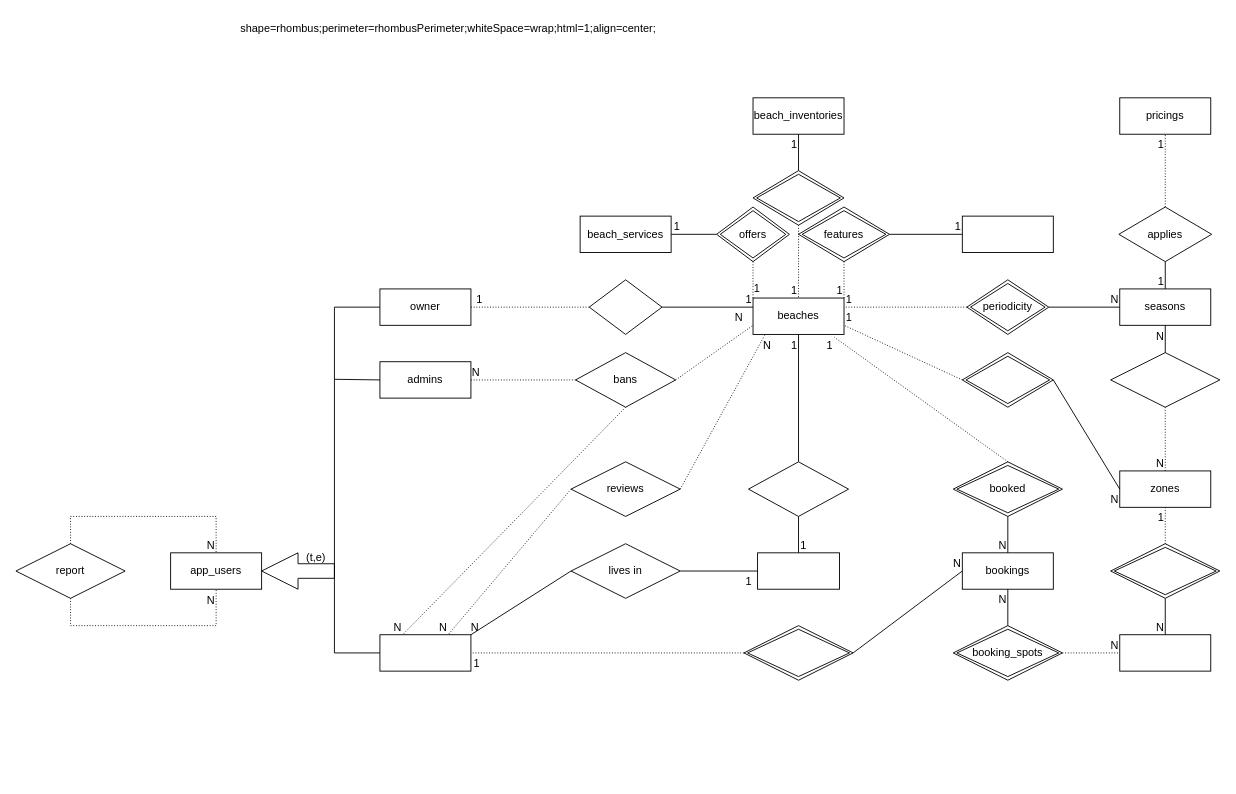
Image size: 1236x794. Some labels were removed from this diagram. The shapes that lost their labels are listed below. From the top down, each one's centre as x and y in pixels, then its label:
At (x=798, y=197): "holds".
At (x=1007, y=234): "parkings".
At (x=625, y=306): "owns".
At (x=1007, y=379): "divided into".
At (x=1165, y=379): "zone_tarrifs".
At (x=798, y=488): "located at".
At (x=798, y=570): "addresses".
At (x=1165, y=570): "composed of".
At (x=425, y=652): "customers".
At (x=798, y=652): "books".
At (x=1165, y=652): "spots".
